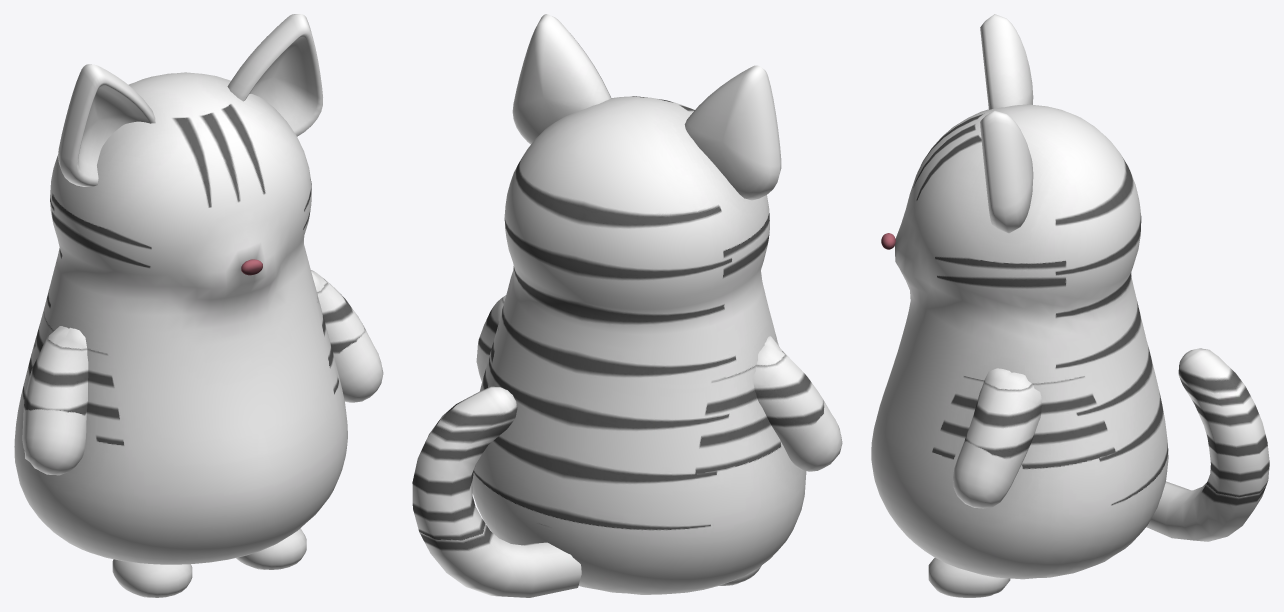
File: gatito.glb
3 renders of one model, left to right at view 1: azimuth 30°, elevation 25°; view 2: azimuth 150°, elevation 25°; view 3: azimuth 270°, elevation 25°, orthographic. The views are drawn at different scales.
Parts seen in each view (by area): view 1: cuerpo, brazoI, orejaD, orejaI, brazoD; view 2: cuerpo, orejaI, orejaD, brazoI, brazoD; view 3: cuerpo, brazoD, orejaD, orejaI.
Part boxes in pixels (x1,y1,x2,y2): cuerpo: (14,72,347,597); brazoI: (22,326,88,475); orejaD: (227,14,322,136); orejaI: (58,64,155,186); brazoD: (311,270,383,402); cuerpo: (412,96,806,597); orejaI: (684,65,781,200); orejaD: (512,14,611,144); brazoI: (753,336,842,471); brazoD: (476,295,505,381); cuerpo: (871,104,1269,597); brazoD: (953,368,1042,508); orejaD: (980,110,1033,233); orejaI: (980,14,1033,109).
Bounding box in the file's own units: 1.85 × 2.62 × 1.9.
3 materials, 3 textured.
